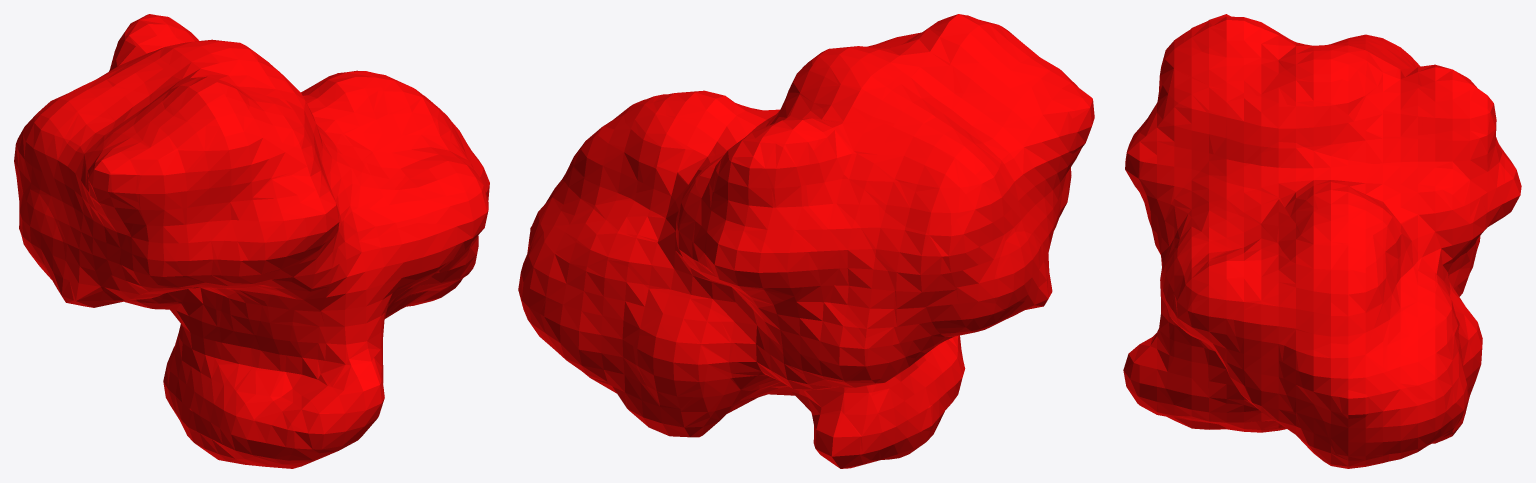
Rendered from epd_coarse.dae.
The picture shows the model from 3 angles, left to right: view 1: azimuth 30°, elevation 25°; view 2: azimuth 150°, elevation 25°; view 3: azimuth 270°, elevation 25°; orthographic projection. The views are drawn at different scales.
Parts seen in each view (by area): view 1: epd; view 2: epd; view 3: epd.
Part boxes in pixels (x1,y1,x2,y2): epd: (14,14,489,468); epd: (518,14,1094,468); epd: (1123,14,1521,468).
Bounding box in the file's own units: 65.65 × 55.41 × 51.09.
